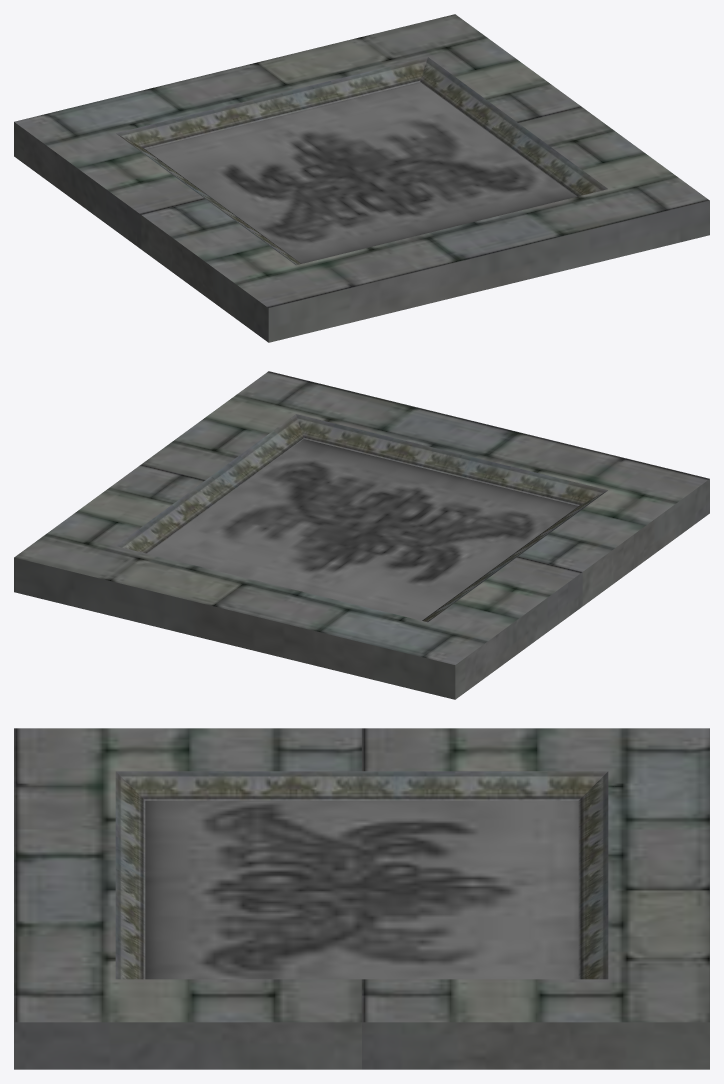
The model's file is sd_flat_ceiling_large_02.glb.
3 views of the same model, one above another, from view 1: azimuth 30°, elevation 25°; view 2: azimuth 150°, elevation 25°; view 3: azimuth 270°, elevation 25° (orthographic). The views are drawn at different scales.
Visible parts, largest first — view 1: flat_ceiling_large_02; view 2: flat_ceiling_large_02; view 3: flat_ceiling_large_02.
Boxes of the visible parts, x1,y1,x2,y2 form: flat_ceiling_large_02: (14, 14, 709, 342); flat_ceiling_large_02: (14, 371, 709, 699); flat_ceiling_large_02: (14, 728, 709, 1069).
Bounding box in the file's own units: 4 × 0.2998 × 4.
1 material, 1 textured.
